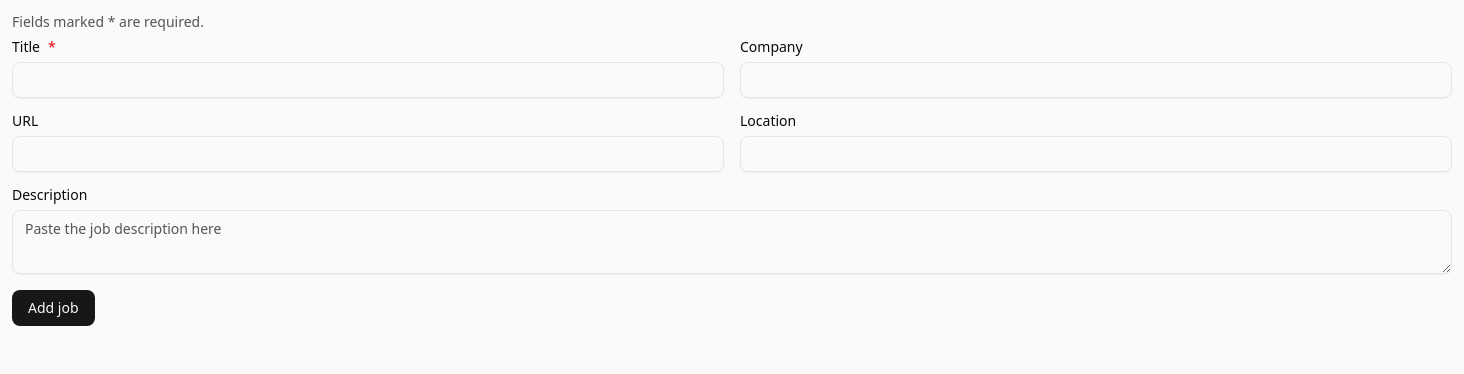
it: JobForm › requires a title before sending anything, but not a URL
Step 1. Click the button "Add job" → (53, 308), box [12, 290, 94, 326]
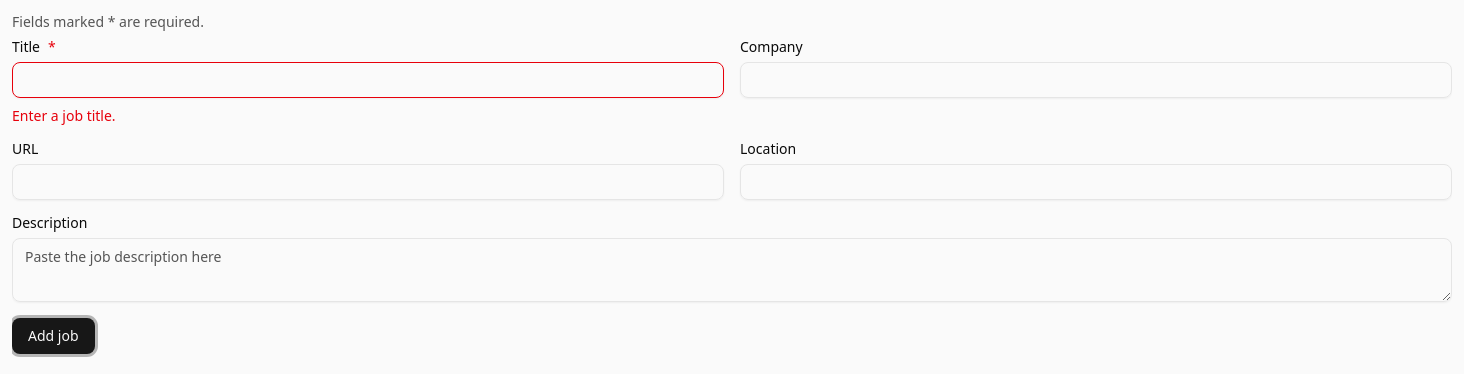
Expected: the text "Enter a job title." is shown, [12, 106, 116, 125]
